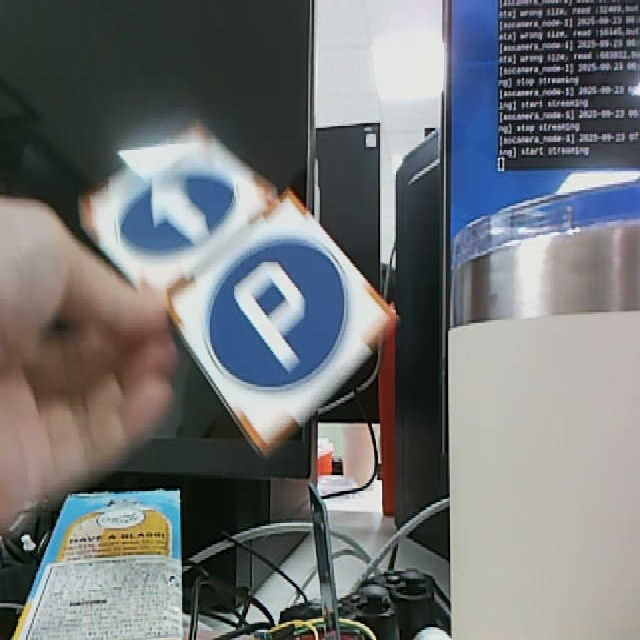parking: (167, 190, 400, 448)
strait: (73, 112, 278, 295)
